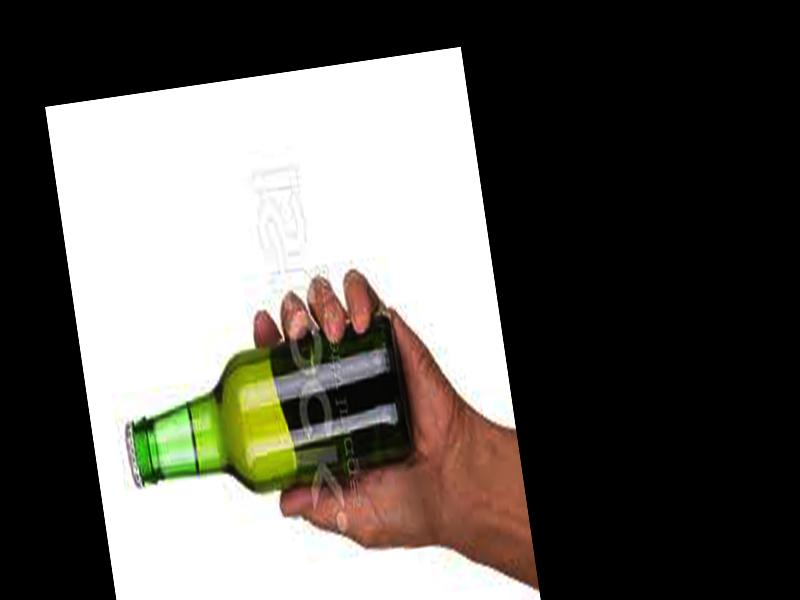Beer: (114, 322, 416, 514)
